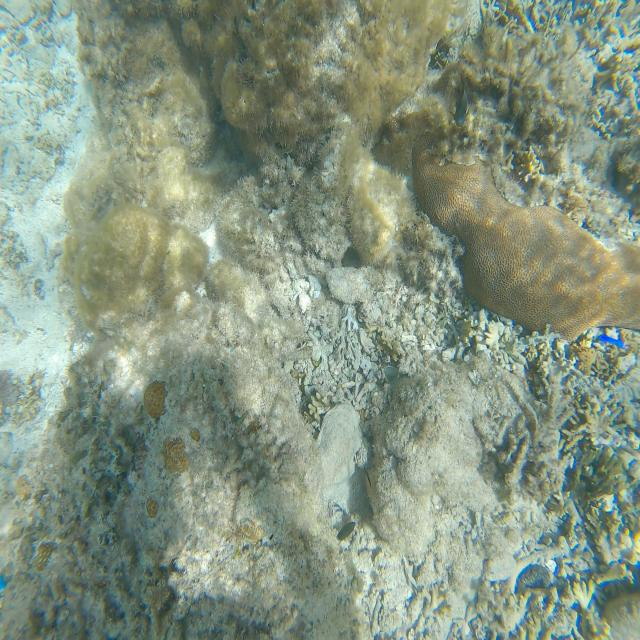kurohagi: (454, 86, 470, 127), (338, 521, 356, 541)
rurisuzumedai: (598, 334, 625, 348), (0, 575, 6, 608)
